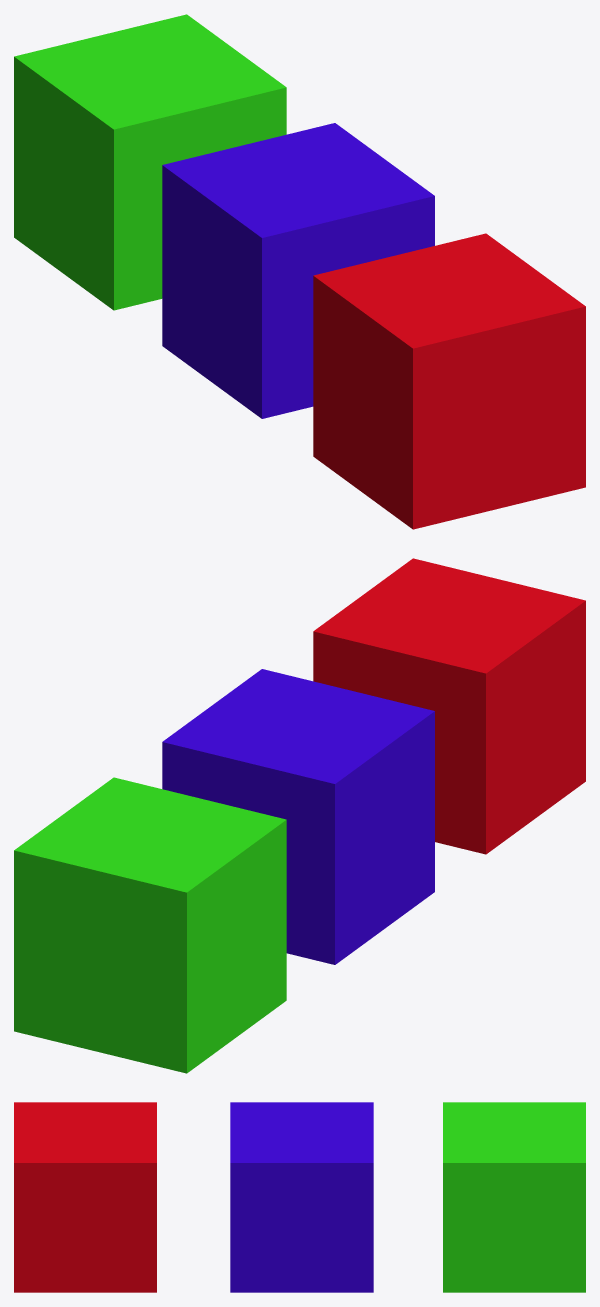
3 views of the same model, one above another, from view 1: azimuth 30°, elevation 25°; view 2: azimuth 150°, elevation 25°; view 3: azimuth 270°, elevation 25° (orthographic). The views are drawn at different scales.
Parts seen in each view (by area): view 1: Cube.001, Cube, Cube.002; view 2: Cube.002, Cube.001, Cube; view 3: Cube, Cube.001, Cube.002.
Part boxes in pixels (x1,y1,x2,y2): Cube.001: [313, 233, 585, 529]; Cube: [162, 123, 434, 418]; Cube.002: [14, 14, 286, 310]; Cube.002: [14, 777, 286, 1073]; Cube.001: [313, 558, 585, 854]; Cube: [162, 669, 434, 964]; Cube: [230, 1102, 373, 1292]; Cube.001: [14, 1102, 156, 1292]; Cube.002: [443, 1102, 585, 1292].
Size of the model in its own units: 2 by 2 by 7.99.
